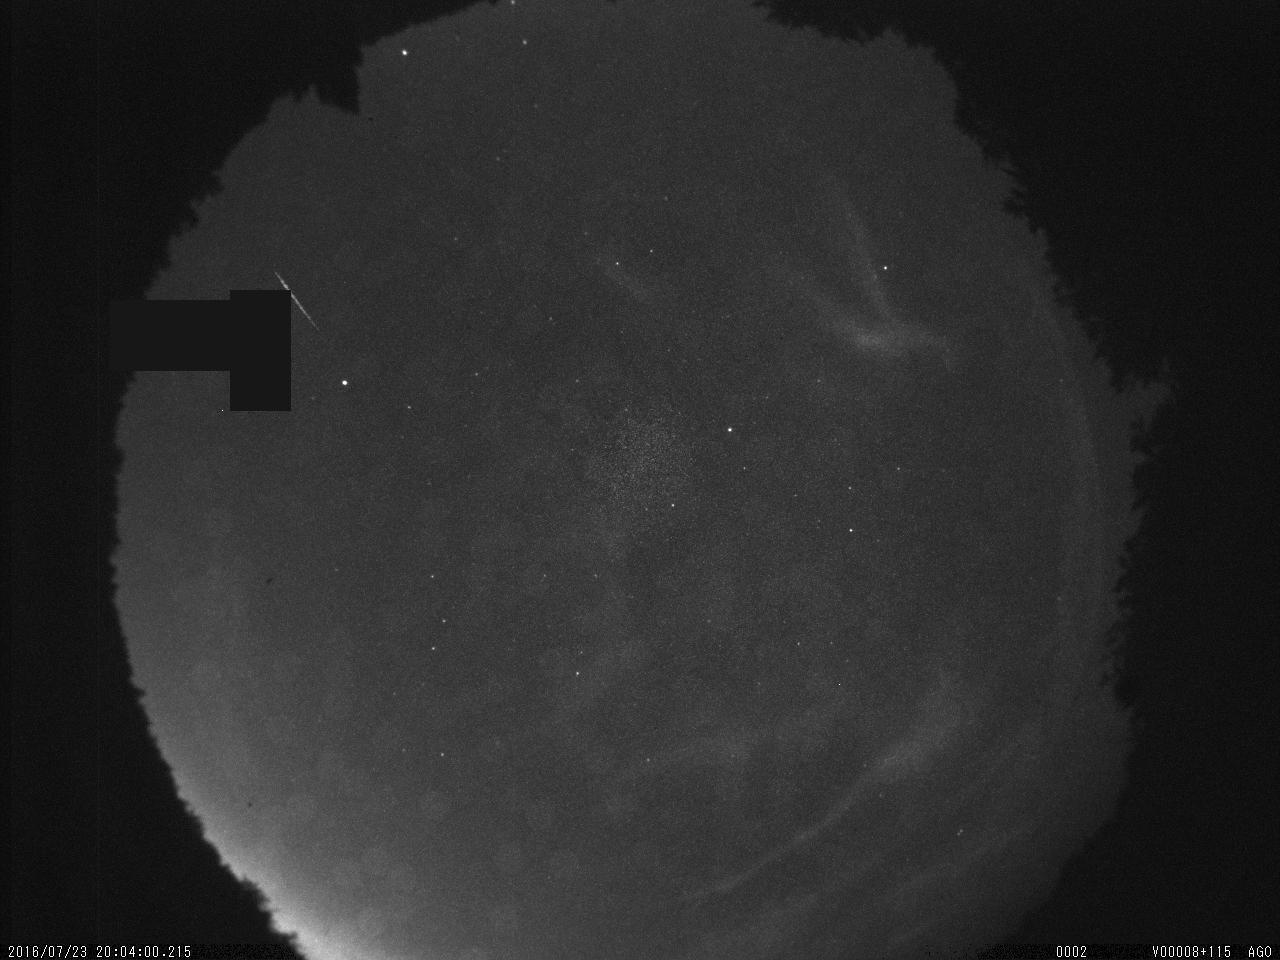meteor: (269, 262, 328, 342)
